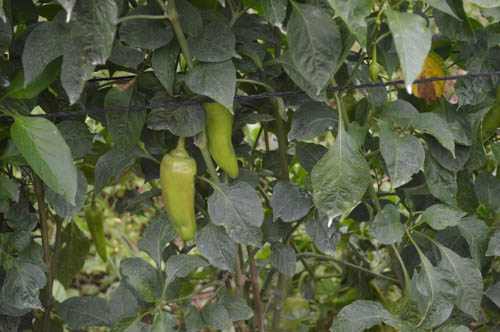ChiliPepper: (200, 84, 242, 179), (160, 155, 200, 240), (87, 208, 110, 262)
